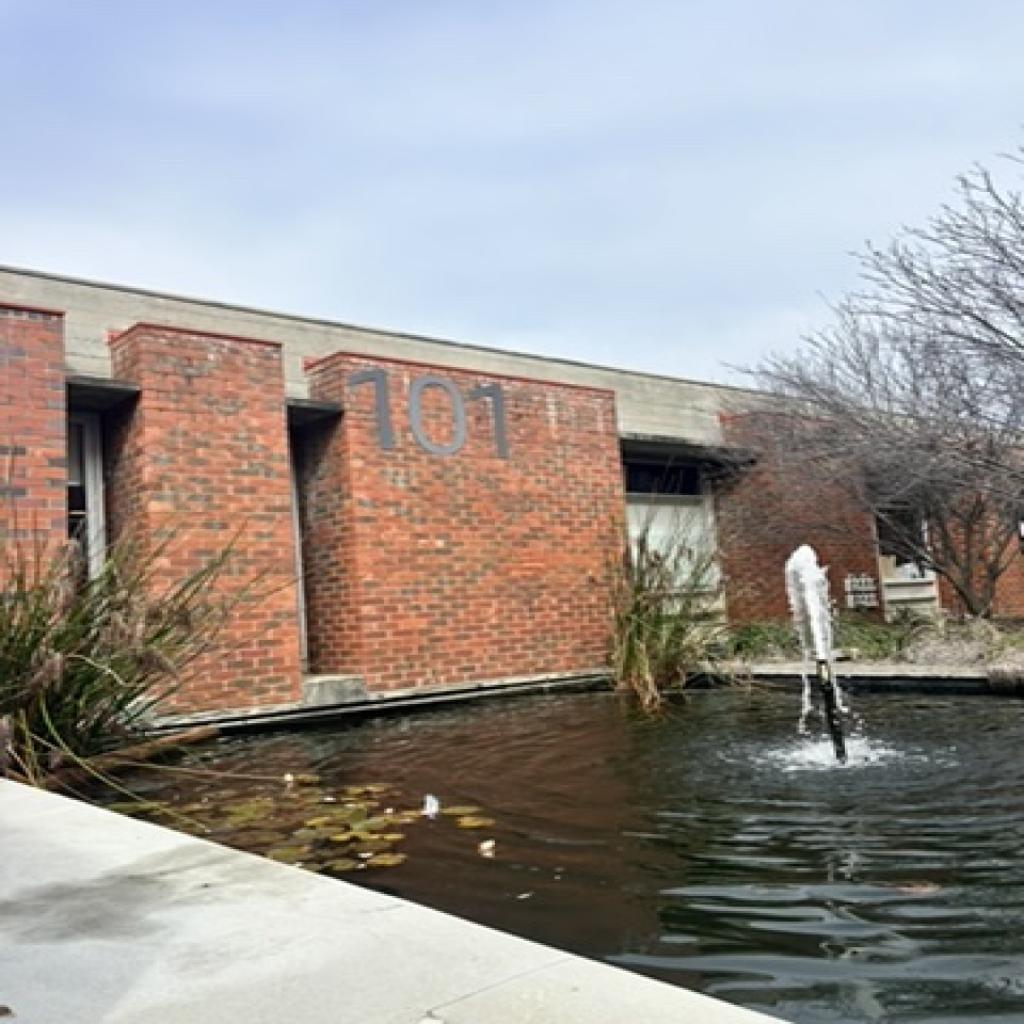BuildingCodes: (346, 366, 512, 462)
